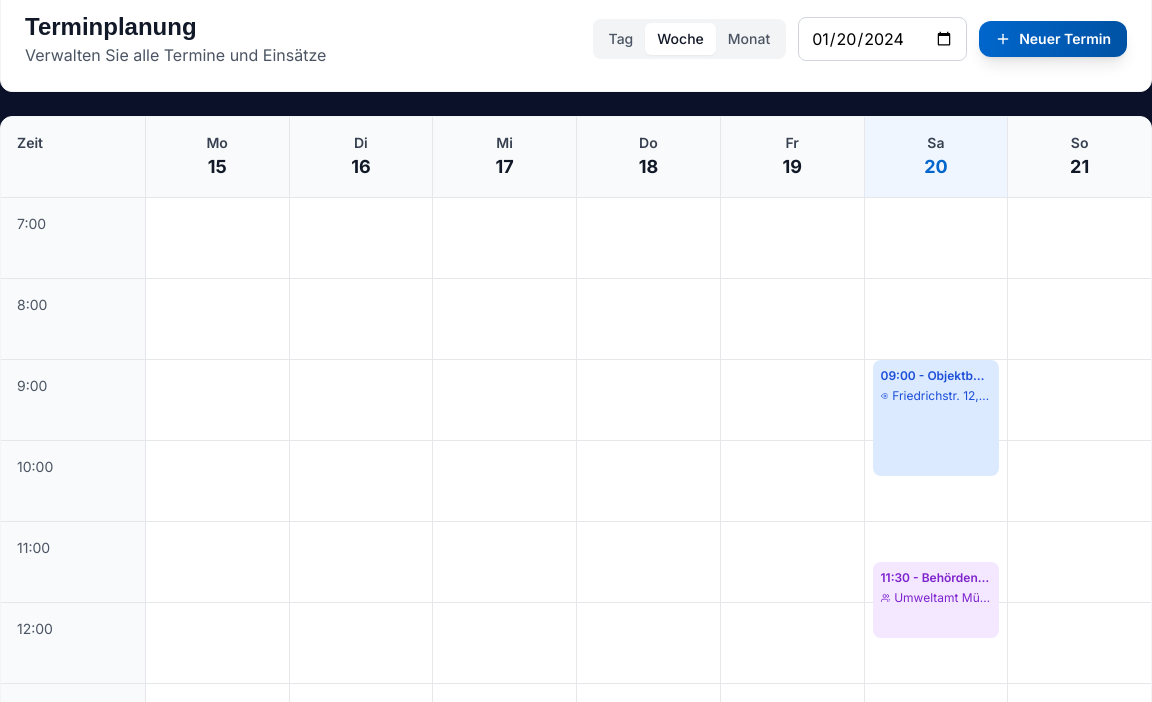
AppointmentScheduler - Revenue Critical Tests › Emergency and Priority Handling › manages mandatory safety training scheduling
The image size is (1152, 702).
Click the button "Tag" at (621, 39), box [596, 23, 645, 55]
(page scrolled)
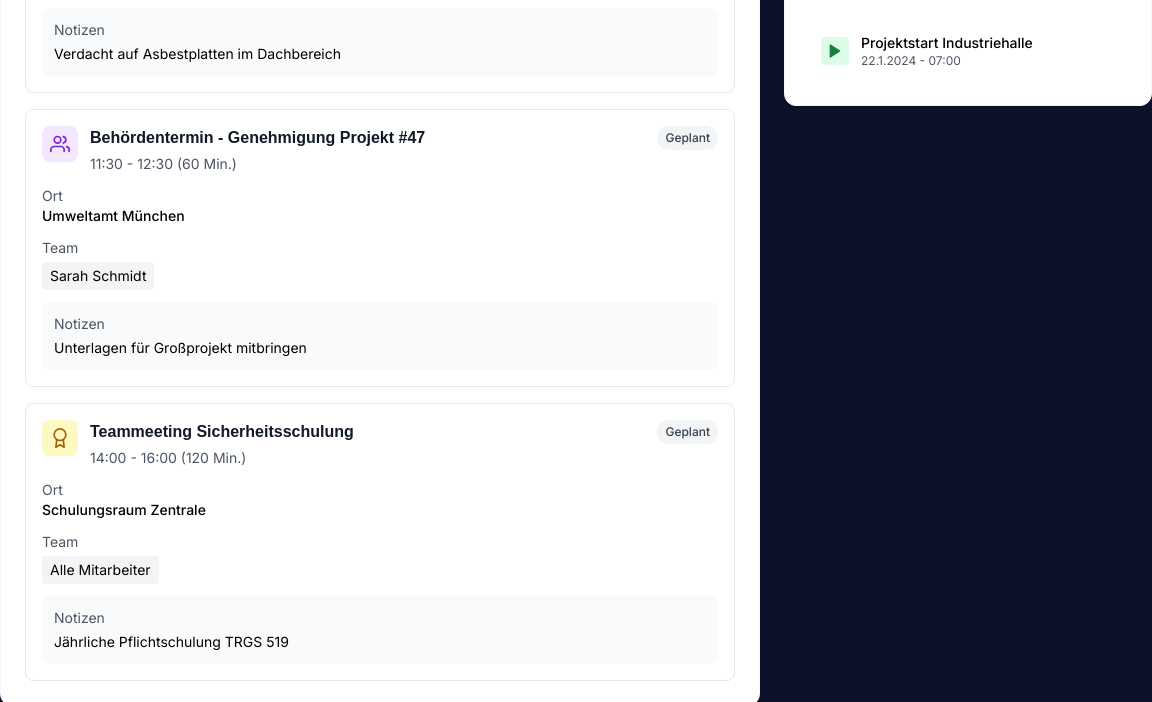
Expected: the heading "Teammeeting Sicherheitsschulung" is shown, [90, 420, 354, 444]
Expected: the text "Jährliche Pflichtschulung TRGS 519" is shown, [54, 633, 289, 650]
